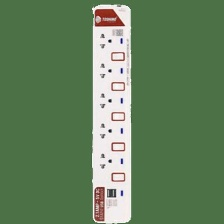three_eye_plug: (89, 2, 133, 224)
